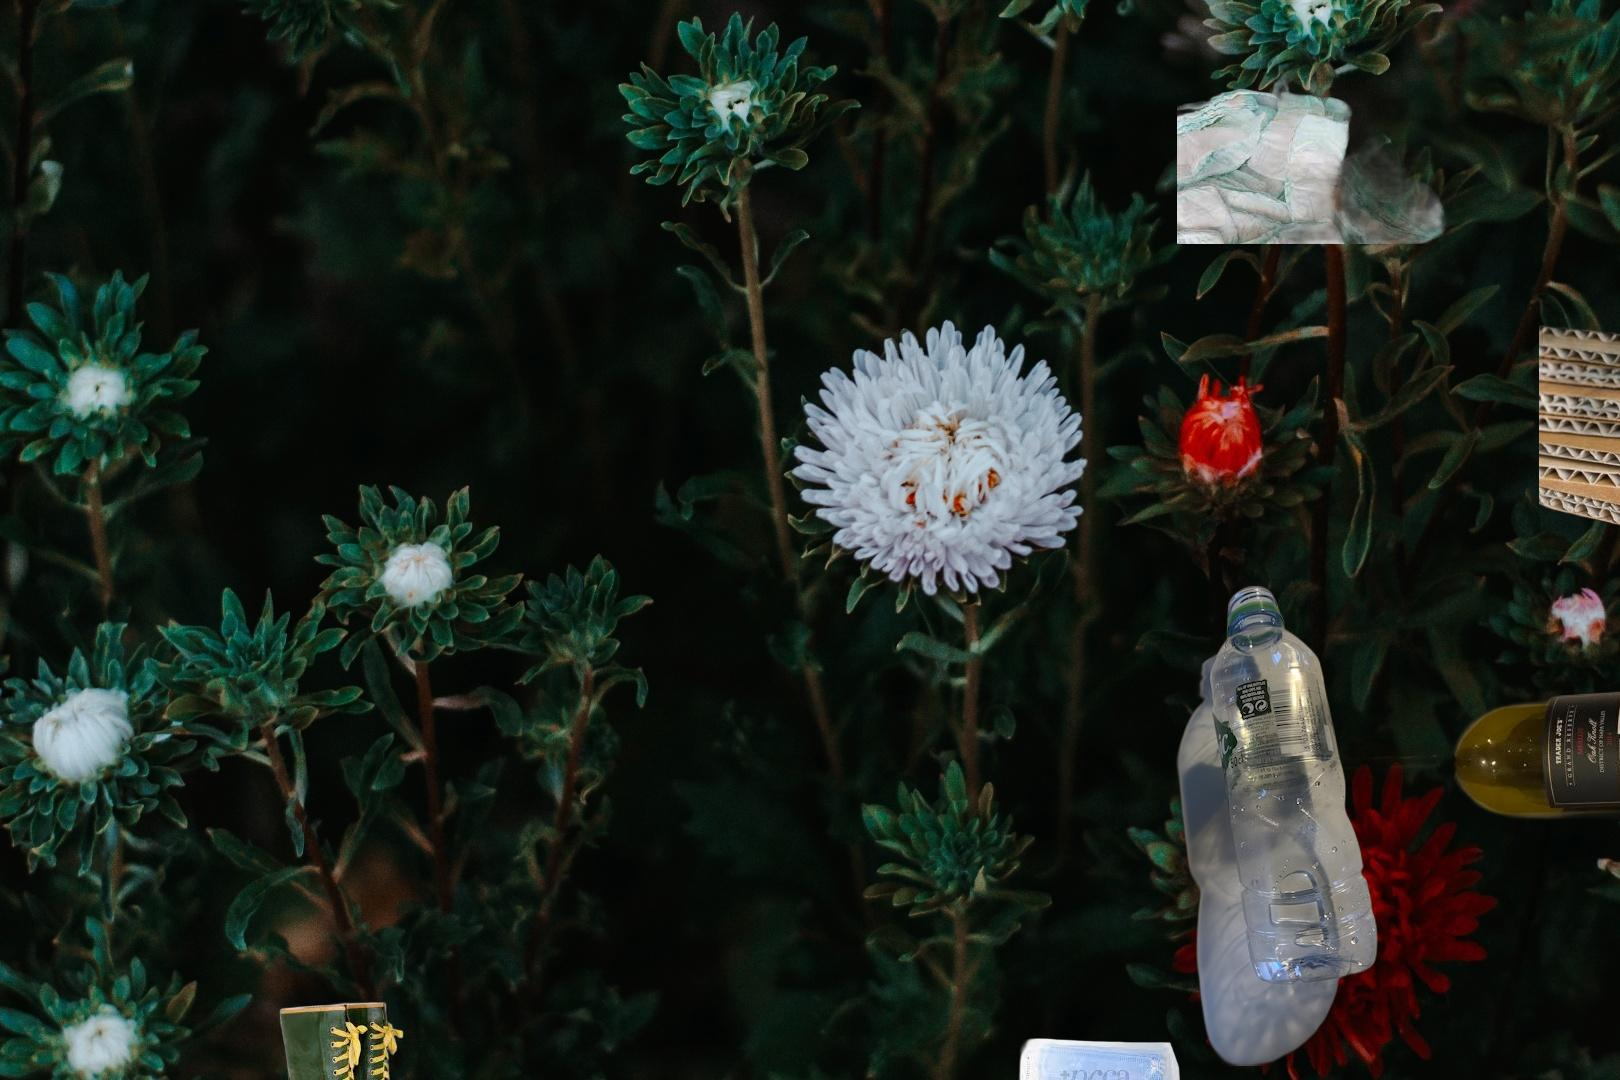glass: (1342, 675, 1620, 837)
plastic-bottles: (1173, 581, 1381, 1066)
shoes: (277, 997, 447, 1080)
trash: (1176, 60, 1452, 243), (1015, 1035, 1182, 1080)
trashbox-cardboard: (1539, 312, 1620, 542)
